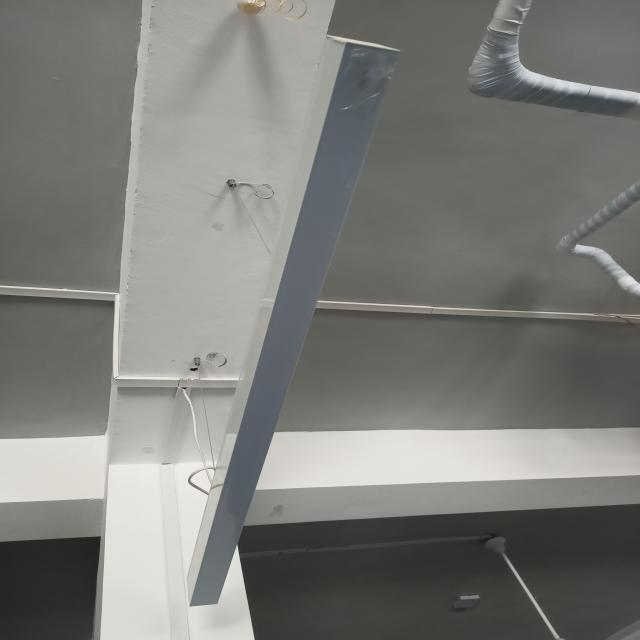light_off: (181, 27, 410, 608)
